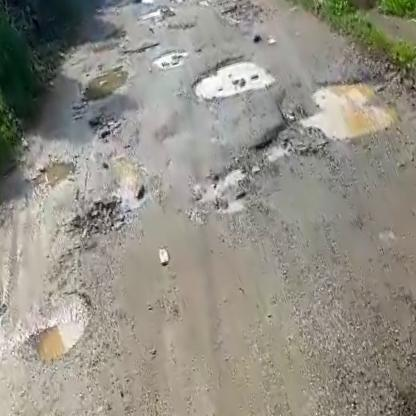pothole: (239, 58, 408, 175), (18, 288, 105, 370), (182, 45, 275, 109), (59, 190, 131, 253), (184, 160, 253, 219), (72, 62, 134, 108), (24, 151, 78, 197), (0, 286, 21, 373), (117, 33, 161, 59), (148, 44, 190, 71)
